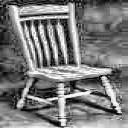chair_success: (0, 2, 127, 128)
